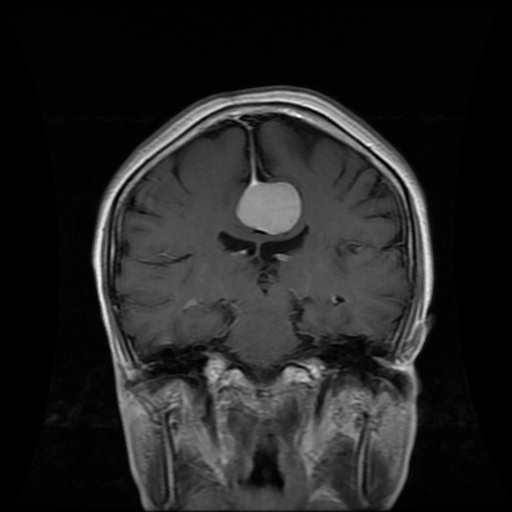meningioma: (236, 180, 300, 234)
